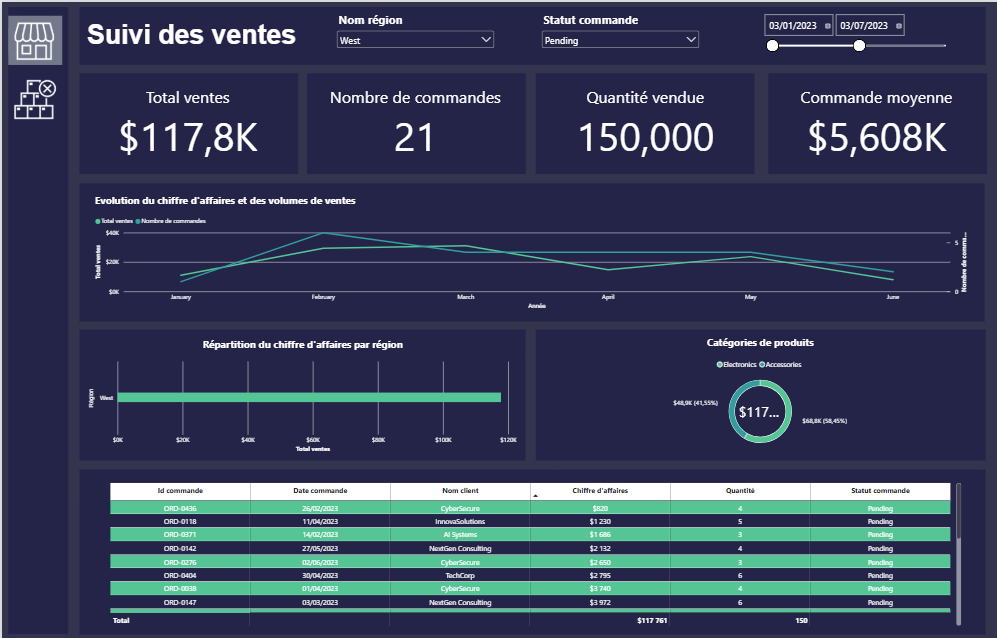

The dashboard page shown, as its layout file describes it:
{"tool":"powerbi","page":{"name":"Suivi vente","canvas":[2000,1280],"ordinal":0},"visuals":[{"type":"shape","box":[12,10,120,1254],"z":0},{"type":"shape","box":[155.4,10.8,1812.8,115.7],"z":1000},{"type":"shape","box":[154.4,143.7,437.5,201.6],"z":2000},{"type":"shape","box":[609.1,143.7,437.5,201.6],"z":3000},{"type":"shape","box":[1068.1,143.7,437.5,201.6],"z":4000},{"type":"shape","box":[1531.4,143.7,437.5,201.6],"z":5000},{"type":"shape","box":[154.4,362.5,1810.2,276.7],"z":6000},{"type":"shape","box":[154,654,892,262],"z":7000},{"type":"shape","box":[1068,654,900,262],"z":8000},{"type":"shape","box":[156,934,1812.3,330.3],"z":9000},{"type":"textbox","box":[169.4,34.3,439.7,68.6],"z":10000},{"type":"cardVisual","fields":{"Data":["Clients_dim.Total ventes"]},"box":[170.1,159.2,403.5,168],"z":11000},{"type":"cardVisual","fields":{"Data":["Clients_dim.Nombre de commandes"]},"box":[626,159.2,403.5,168],"z":12000},{"type":"cardVisual","fields":{"Data":["ventes_fait.Quantité vendue"]},"box":[1084.1,159.2,403.5,168],"z":13000},{"type":"cardVisual","fields":{"Data":["Clients_dim.Commande moyenne"]},"box":[1546.6,159.2,403.5,168],"z":14000},{"type":"lineChart","title":"Evolution du chiffre d''affaires et des volumes de ventes","fields":{"Category":["ventes_fait.Date commande.Variation.Date Hierarchy.Year","ventes_fait.Date commande.Variation.Date Hierarchy.Quarter","ventes_fait.Date commande.Variation.Date Hierarchy.Month","ventes_fait.Date commande.Variation.Date Hierarchy.Day"],"Y":["Mesures.Total ventes"],"Y2":["Mesures.Nombre de commandes"]},"box":[170,367.5,1780,262.5],"z":15000},{"type":"barChart","title":"Répartition du chiffre d''affaires par région","fields":{"Y":["Mesures.Total ventes"],"Category":["Région_dim.Nom région"]},"box":[158,654,888,262],"z":16000},{"type":"donutChart","title":"Catégories de produits","fields":{"Category":["Produits_dim.Catégorie produit"],"Y":["Mesures.Total ventes"]},"box":[1073.3,653.3,888,262],"z":17000},{"type":"tableEx","fields":{"Values":["ventes_fait.Id commande","ventes_fait.Date commande","Clients_dim.Nom client","Sum(ventes_fait.Prix total)","Sum(ventes_fait.Quantité)","ventes_fait.Statut commande"]},"box":[200,948,1734,316],"z":18000},{"type":"slicer","fields":{"Values":["Région_dim.Nom région"]},"box":[666,20,324,96],"z":19000},{"type":"slicer","fields":{"Values":["ventes_fait.Statut commande"]},"box":[1074,20,324,82],"z":20000},{"type":"slicer","fields":{"Values":["ventes_fait.Date commande"]},"box":[1518,20,386,82],"z":21000},{"type":"shape","box":[12,28,108,98],"z":21500},{"type":"image","box":[14,144,102,100],"z":23000},{"type":"image","box":[12.5,20,104,116],"z":23500}]}

Visuals, with their boxes in screenshot pixels (x1, y1, x2, y2), scaled from the page's 2000x1280 canvas onto the 997x638 screenshot:
shape: 6 5 66 630
shape: 77 5 981 63
shape: 77 72 295 172
shape: 304 72 522 172
shape: 532 72 751 172
shape: 763 72 981 172
shape: 77 181 979 319
shape: 77 326 521 457
shape: 532 326 981 457
shape: 78 466 981 630
textbox: 84 17 304 51
cardVisual - Clients_dim.Total ventes: 85 79 286 163
cardVisual - Clients_dim.Nombre de commandes: 312 79 513 163
cardVisual - ventes_fait.Quantité vendue: 540 79 742 163
cardVisual - Clients_dim.Commande moyenne: 771 79 972 163
"Evolution du chiffre d''affaires et des volumes de ventes" lineChart: 85 183 972 314
"Répartition du chiffre d''affaires par région" barChart: 79 326 521 457
"Catégories de produits" donutChart: 535 326 978 456
tableEx - ventes_fait.Id commande x ventes_fait.Date commande: 100 473 964 630
slicer - Région_dim.Nom région: 332 10 494 58
slicer - ventes_fait.Statut commande: 535 10 697 51
slicer - ventes_fait.Date commande: 757 10 949 51
shape: 6 14 60 63
image: 7 72 58 122
image: 6 10 58 68
